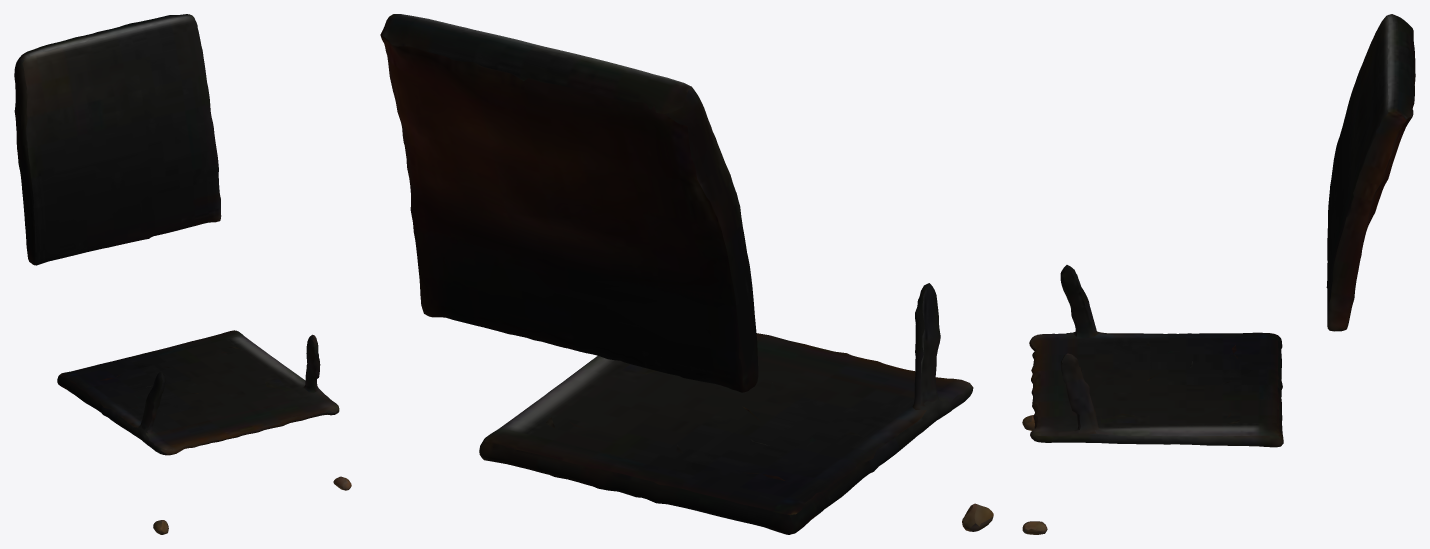
3 renders of one model, left to right at view 1: azimuth 30°, elevation 25°; view 2: azimuth 150°, elevation 25°; view 3: azimuth 270°, elevation 25°, orthographic. The views are drawn at different scales.
Parts seen in each view (by area): view 1: world; view 2: world; view 3: world.
Part boxes in pixels (x1,y1,x2,y2): world: (14,14,351,534); world: (380,14,993,534); world: (1022,14,1415,534).
Size of the model in its own units: 0.2122 by 0.3809 by 0.3176.
1 material, 1 textured.
